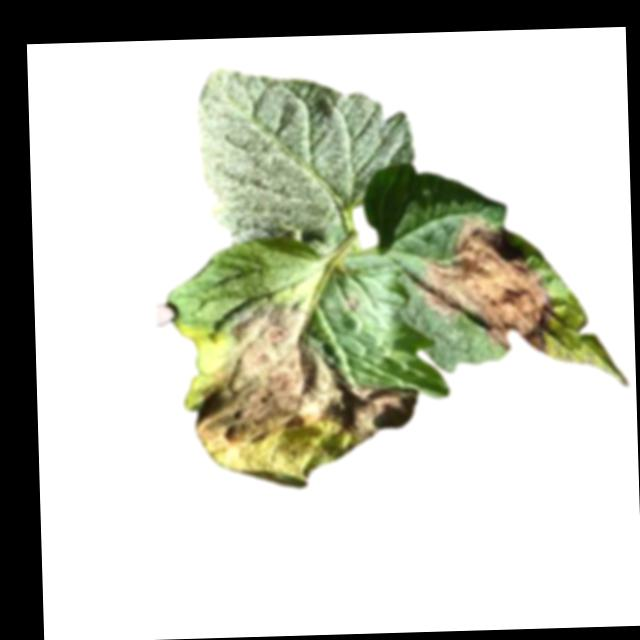Late_blight: (190, 302, 421, 492), (417, 212, 555, 359)
